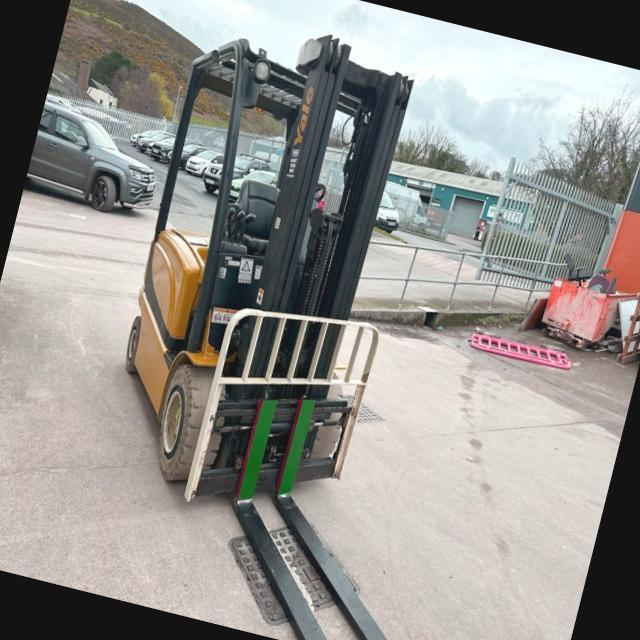forklift: (48, 0, 467, 567)
